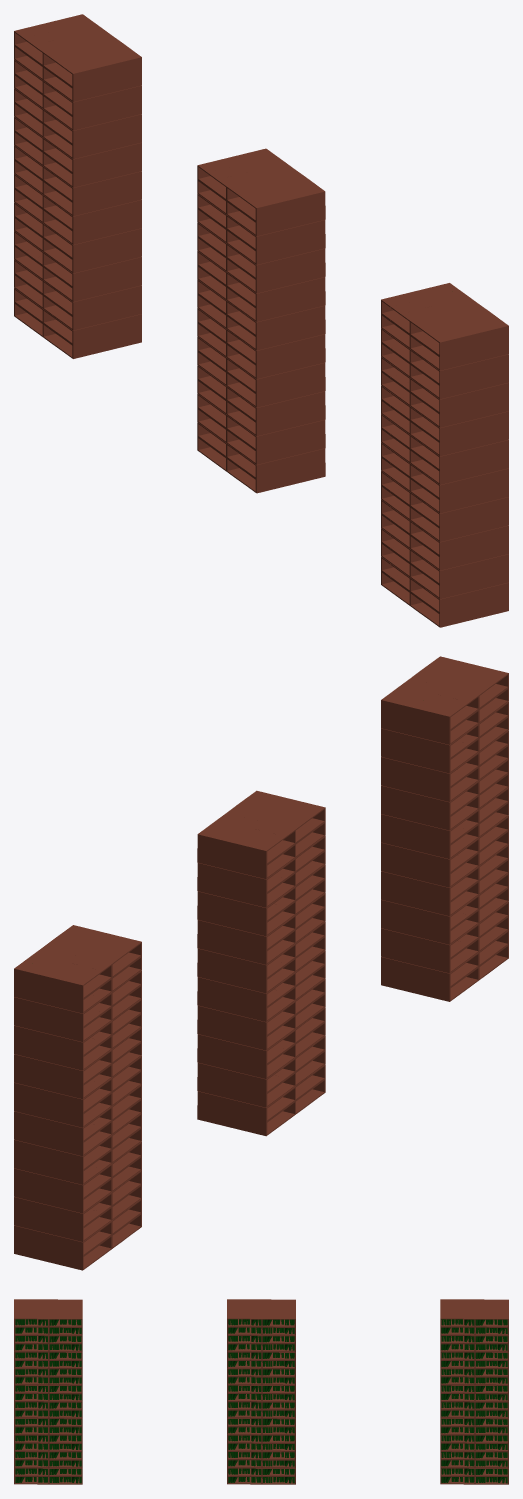
The model's file is libbookshelf_front.fbx.
3 views of the same model, one above another, from view 1: azimuth 30°, elevation 25°; view 2: azimuth 150°, elevation 25°; view 3: azimuth 270°, elevation 25° (orthographic). The views are drawn at different scales.
Visible parts, largest first — view 1: LibraryBookshelf; view 2: LibraryBookshelf; view 3: LibraryBookshelf.
Boxes of the visible parts, box(x1,y1,x2,y2) form: LibraryBookshelf: box(14, 14, 508, 627); LibraryBookshelf: box(14, 656, 508, 1270); LibraryBookshelf: box(14, 1299, 508, 1484).
Size of the model in its own units: 511 by 2023 by 5472.
